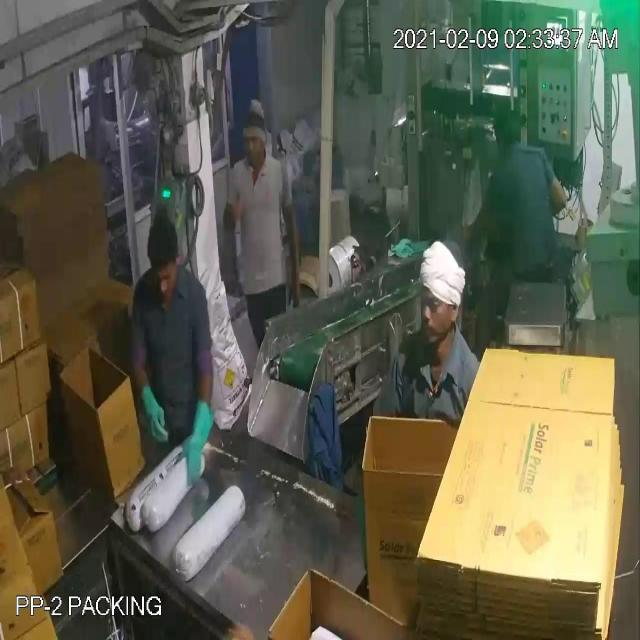Gloves: (34, 44, 292, 446)
